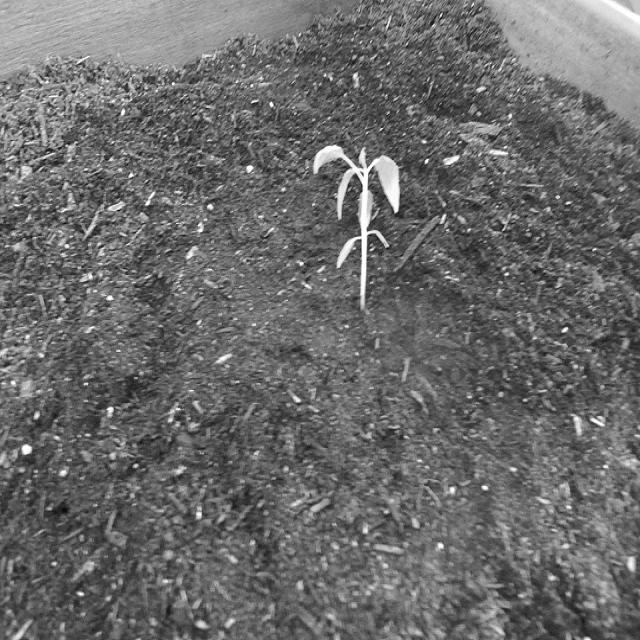Healthy: (310, 138, 405, 316)
